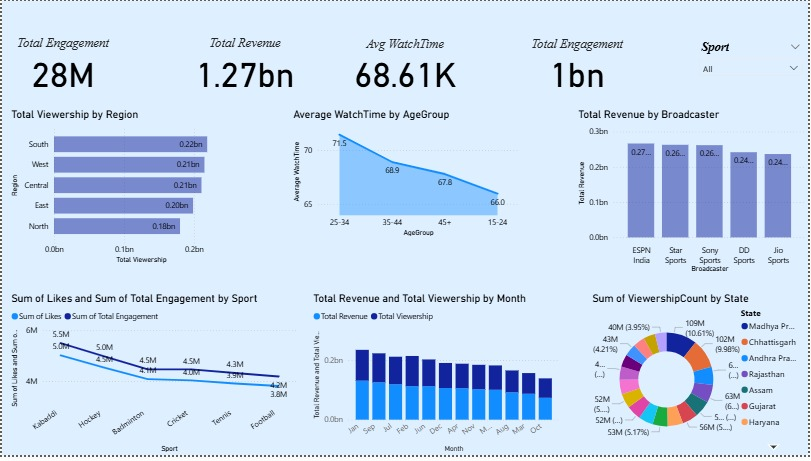

The page's visual inventory and layout, read from the dashboard file:
{"tool":"powerbi","page":{"name":"Page 1","canvas":[1280,720],"ordinal":0},"visuals":[{"type":"card","title":"Total Engagement","fields":{"Values":["Sum(SportCast360_Broadcast_Analytics.Total Engagement)"]},"box":[10.1,56.2,174.2,86.4],"z":0},{"type":"slicer","fields":{"Values":["SportCast360_Broadcast_Analytics.Sport"]},"box":[1096.9,57.1,183.1,92.4],"z":1000},{"type":"card","title":"Total Engagement","fields":{"Values":["SportCast360_Broadcast_Analytics.Total Viewership"]},"box":[824.8,57.1,174.7,85.7],"z":2000},{"type":"card","title":"Avg WatchTime","fields":{"Values":["Sum(SportCast360_Broadcast_Analytics.AvgWatchTime)"]},"box":[552.7,57.1,174.7,85.7],"z":3000},{"type":"card","title":"Total Revenue","fields":{"Values":["SportCast360_Broadcast_Analytics.Total Revenue"]},"box":[298.1,56.2,174.2,86.4],"z":4000},{"type":"barChart","fields":{"Category":["SportCast360_Broadcast_Analytics.Region"],"Y":["SportCast360_Broadcast_Analytics.Total Viewership"]},"box":[10.1,169.7,371.2,252],"z":5000},{"type":"columnChart","fields":{"Y":["SportCast360_Broadcast_Analytics.Total Revenue"],"Category":["SportCast360_Broadcast_Analytics.Broadcaster"]},"box":[908.8,169.7,371.2,265.4],"z":6000},{"type":"stackedAreaChart","fields":{"Category":["SportCast360_Broadcast_Analytics.AgeGroup"],"Y":["SportCast360_Broadcast_Analytics.Average WatchTime"]},"box":[456.9,169.7,367.9,208.3],"z":7000},{"type":"lineChart","fields":{"Category":["SportCast360_Broadcast_Analytics.Sport"],"Y":["Sum(SportCast360_Broadcast_Analytics.Likes)","Sum(SportCast360_Broadcast_Analytics.Total Engagement)"]},"box":[10.1,461.9,461.9,258.7],"z":8000},{"type":"donutChart","fields":{"Y":["Sum(SportCast360_Broadcast_Analytics.ViewershipCount)"],"Category":["SportCast360_Broadcast_Analytics.State"]},"box":[932.3,461.9,347.7,258.7],"z":9000},{"type":"columnChart","fields":{"Y":["SportCast360_Broadcast_Analytics.Total Revenue","SportCast360_Broadcast_Analytics.Total Viewership"],"Category":["SportCast360_Broadcast_Analytics.Month"]},"box":[488.8,461.9,399.8,258.7],"z":10000}]}

Visuals, with their boxes in screenshot pixels (x1, y1, x2, y2), scaled from the page's 1280x720 canvas onto the 811x461 screenshot:
"Total Engagement" card: crop(6, 36, 117, 91)
slicer - SportCast360_Broadcast_Analytics.Sport: crop(695, 37, 810, 96)
"Total Engagement" card: crop(523, 37, 633, 91)
"Avg WatchTime" card: crop(350, 37, 461, 91)
"Total Revenue" card: crop(189, 36, 299, 91)
barChart - SportCast360_Broadcast_Analytics.Region x SportCast360_Broadcast_Analytics.Total Viewership: crop(6, 109, 242, 270)
columnChart - SportCast360_Broadcast_Analytics.Total Revenue x SportCast360_Broadcast_Analytics.Broadcaster: crop(576, 109, 810, 279)
stackedAreaChart - SportCast360_Broadcast_Analytics.AgeGroup x SportCast360_Broadcast_Analytics.Average WatchTime: crop(289, 109, 523, 242)
lineChart - SportCast360_Broadcast_Analytics.Sport x Sum(SportCast360_Broadcast_Analytics.Likes): crop(6, 296, 299, 460)
donutChart - Sum(SportCast360_Broadcast_Analytics.ViewershipCount) x SportCast360_Broadcast_Analytics.State: crop(591, 296, 810, 460)
columnChart - SportCast360_Broadcast_Analytics.Total Revenue x SportCast360_Broadcast_Analytics.Total Viewership: crop(310, 296, 563, 460)
